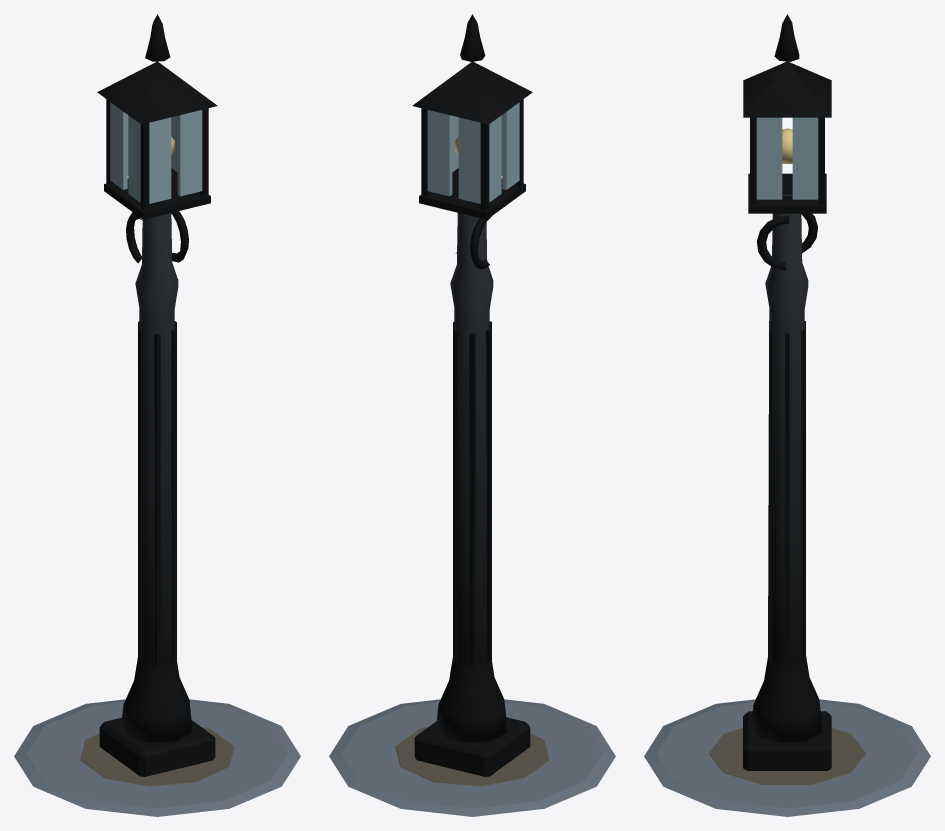
File: platform-gas-lamp.glb
3 views of the same model, side by side, from view 1: azimuth 30°, elevation 25°; view 2: azimuth 150°, elevation 25°; view 3: azimuth 270°, elevation 25° (orthographic).
Parts seen in each view (by area): view 1: platform_gas_lamp; view 2: platform_gas_lamp; view 3: platform_gas_lamp.
Part boxes in pixels (<box>): platform_gas_lamp: <box>14,14,300,816</box>; platform_gas_lamp: <box>329,14,615,816</box>; platform_gas_lamp: <box>644,14,930,816</box>.
Size of the model in its own units: 1.1 by 3.14 by 1.1.
